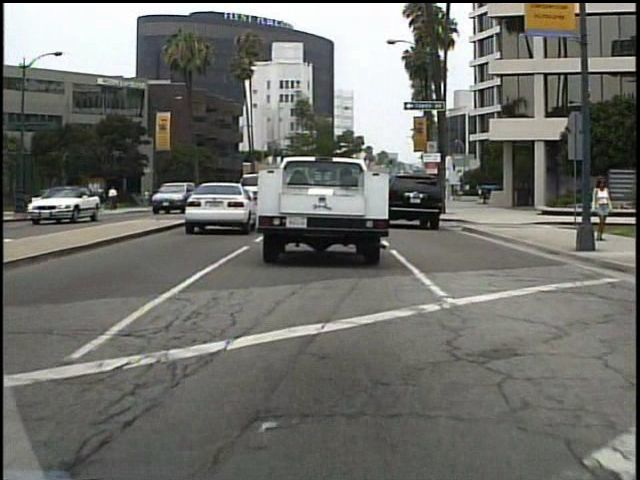person: (589, 173, 613, 246), (101, 188, 115, 219), (110, 185, 121, 213), (144, 186, 154, 208)
